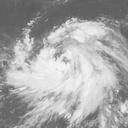cyclone: (7, 17, 117, 117)
